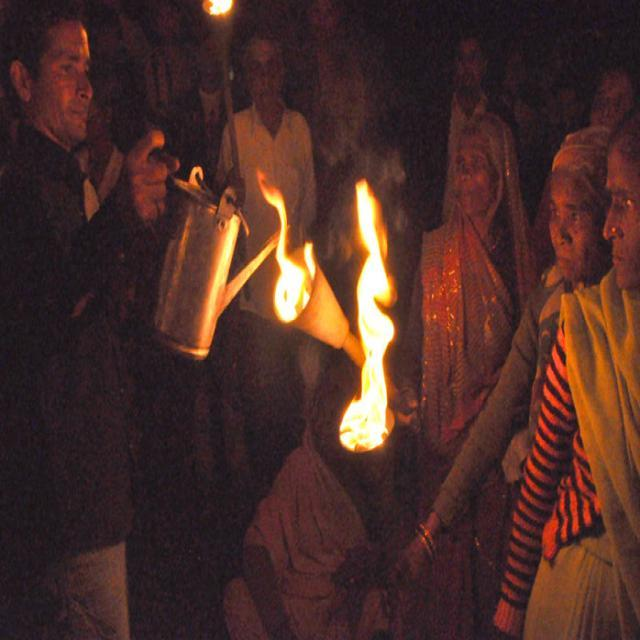Fire: (337, 174, 404, 454), (258, 174, 320, 328)
